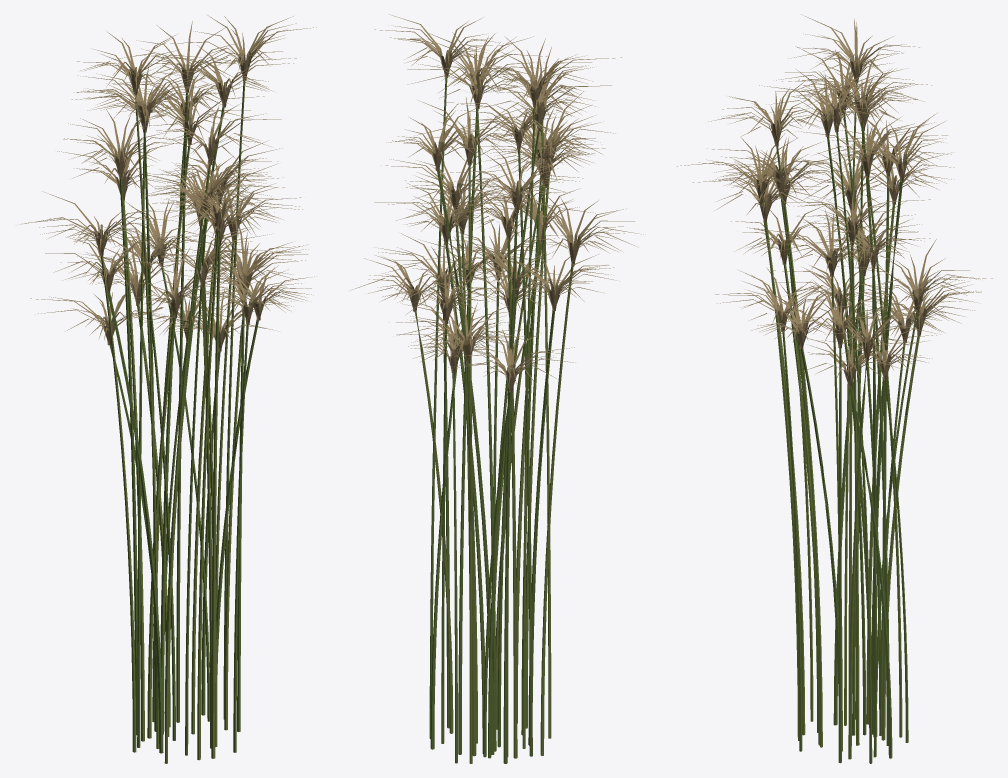
The model's file is common_reed_v2.glb.
3 views of the same model, side by side, from view 1: azimuth 30°, elevation 25°; view 2: azimuth 150°, elevation 25°; view 3: azimuth 270°, elevation 25° (orthographic). The views are drawn at different scales.
Parts seen in each view (by area): view 1: common_reed_v2; view 2: common_reed_v2; view 3: common_reed_v2.
Part boxes in pixels (box(x1,y1,x2,y2)): common_reed_v2: box(20, 14, 316, 763); common_reed_v2: box(350, 14, 645, 763); common_reed_v2: box(677, 14, 992, 763).
Size of the model in its own units: 1.75 by 4.07 by 1.74.
